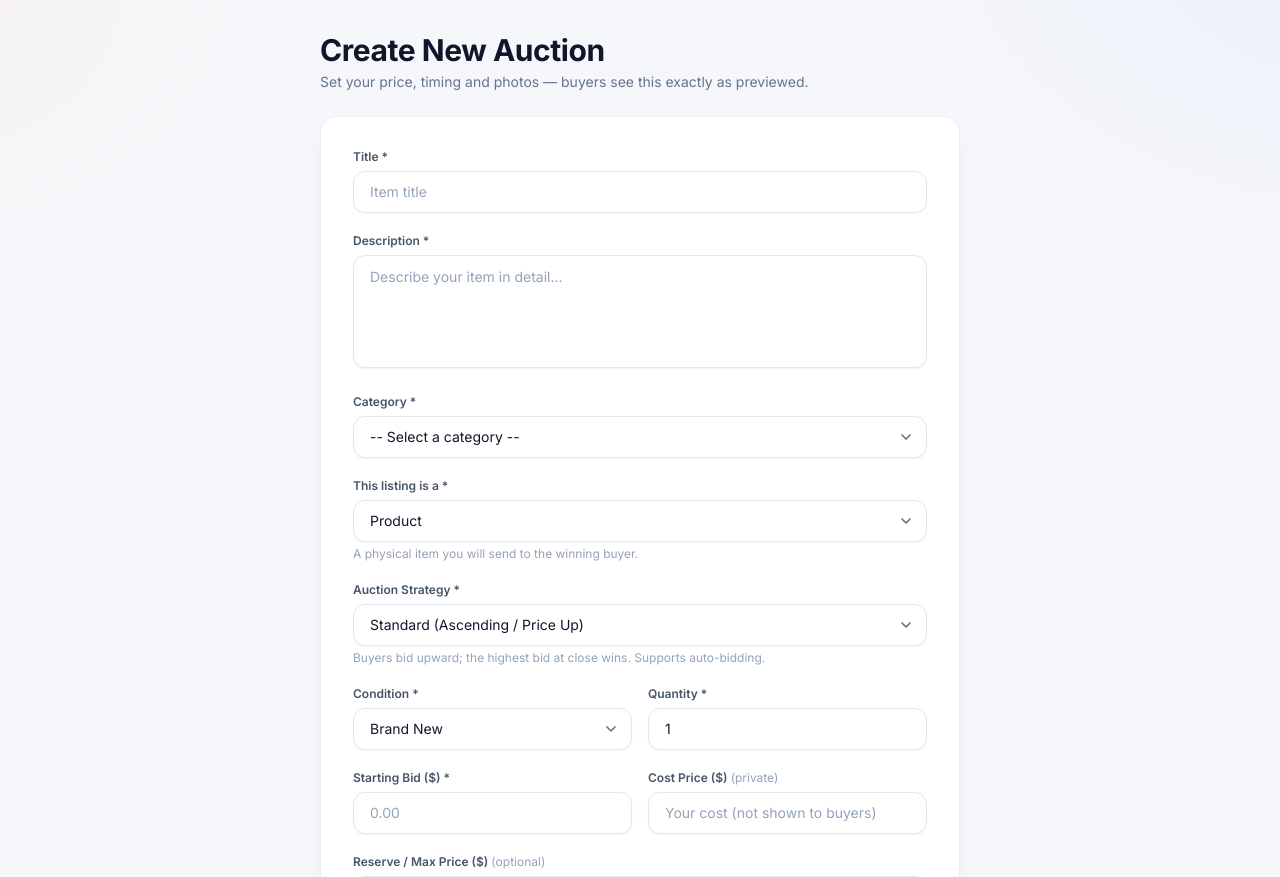
Test: the preview matches what a buyer will be shown › badges a service and warns that nothing will be shipped
The width and height of the screenshot is (1280, 877).
Select "Service" in the dropdown labelled "This listing is a *" at coordinates (640, 521), box 353,500 -> 927,542
(page scrolled)
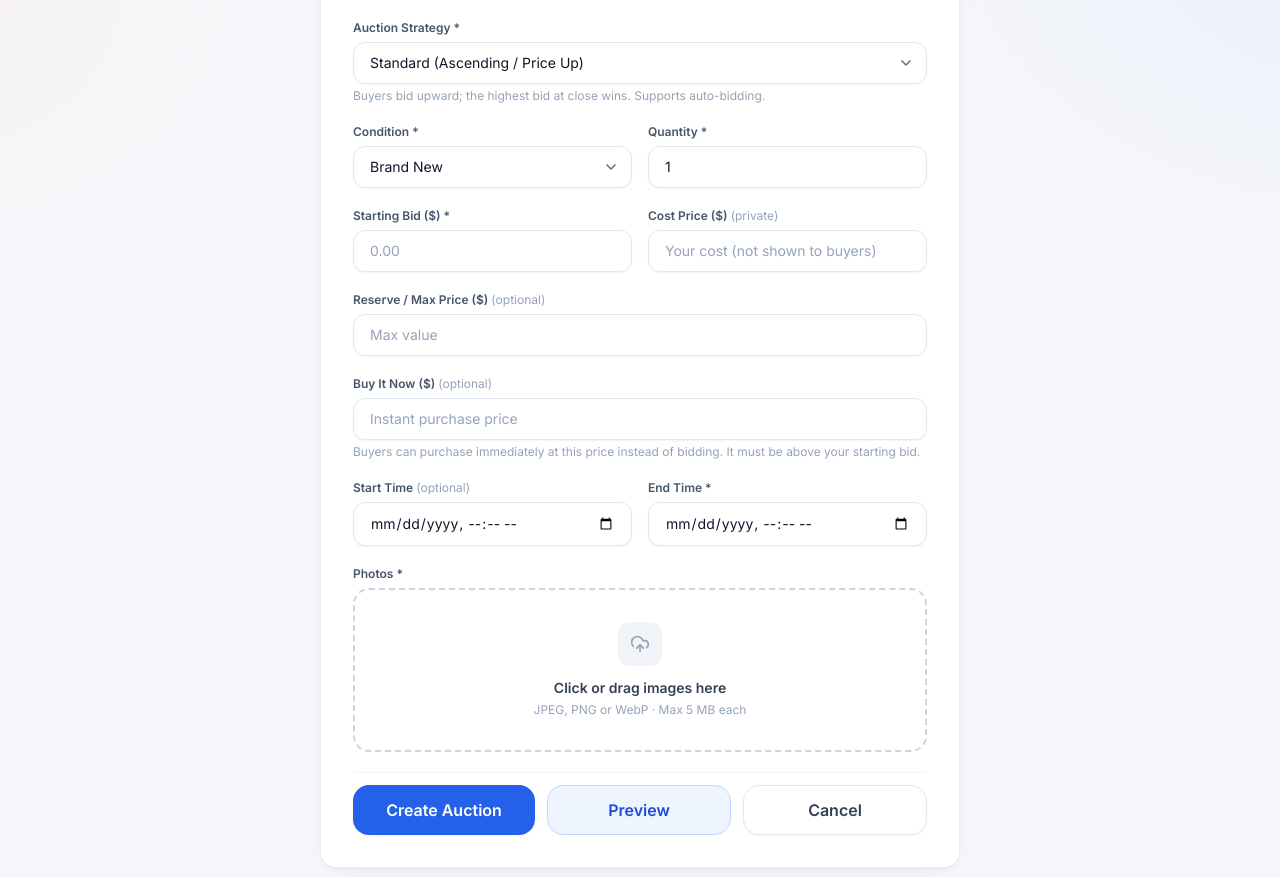
Click the button "Preview" at coordinates (639, 810), box 547,785 -> 731,835
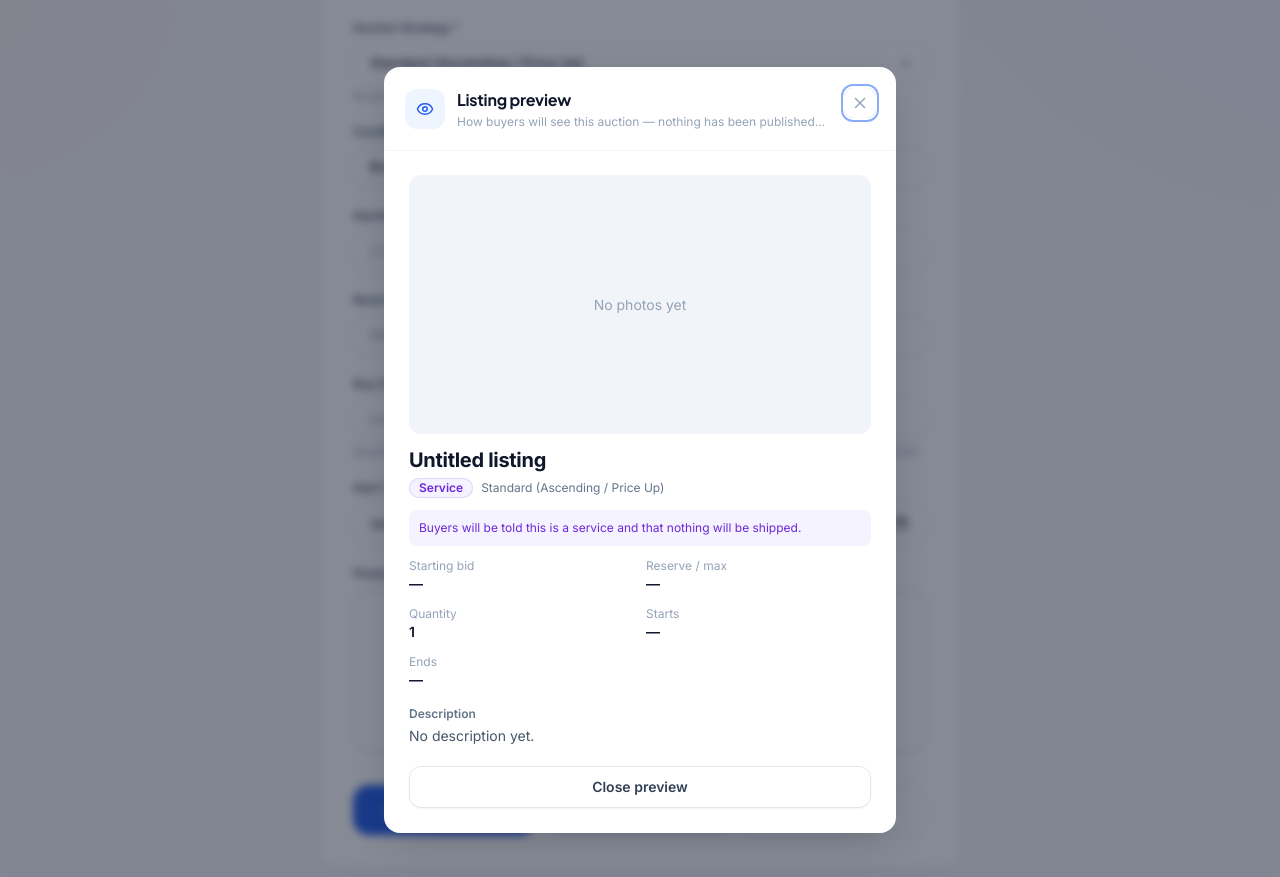
Expected: the text "Service" is shown, 409,478 -> 473,498
Expected: the text "nothing will be shipped" is shown, 419,520 -> 801,535
